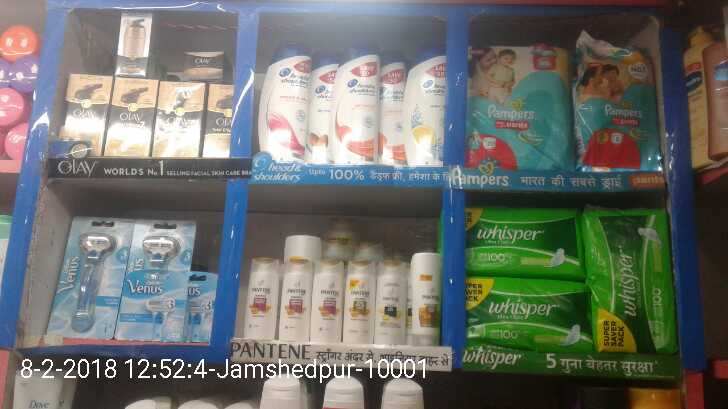venus: (122, 218, 190, 337), (62, 214, 122, 337)
